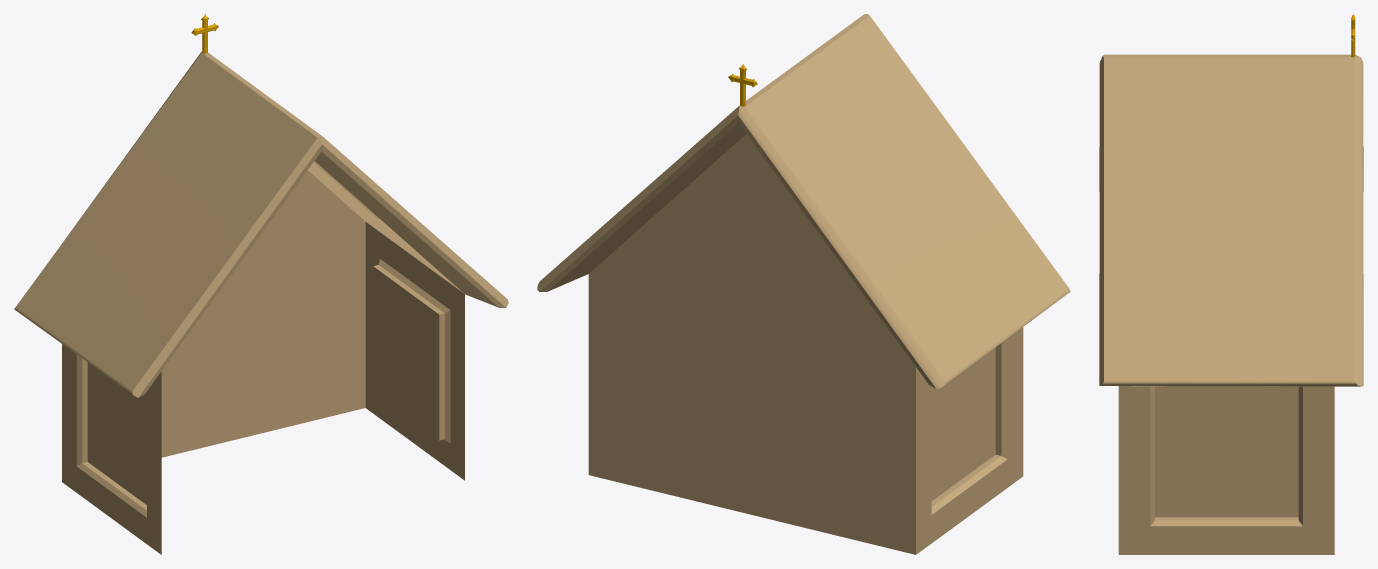
The model's file is Entrance_abbey.fbx.
The picture shows the model from 3 angles, left to right: view 1: azimuth 30°, elevation 25°; view 2: azimuth 150°, elevation 25°; view 3: azimuth 270°, elevation 25°; orthographic projection. The views are drawn at different scales.
Parts seen in each view (by area): view 1: Entrance; view 2: Entrance; view 3: Entrance.
Boxes of the visible parts, <box> form: Entrance: <box>14,51,508,554</box>; Entrance: <box>537,14,1070,554</box>; Entrance: <box>1099,54,1363,554</box>.
Bounding box in the file's own units: 14.35 × 15.42 × 8.02.
